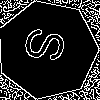S: (22, 25, 76, 68)
